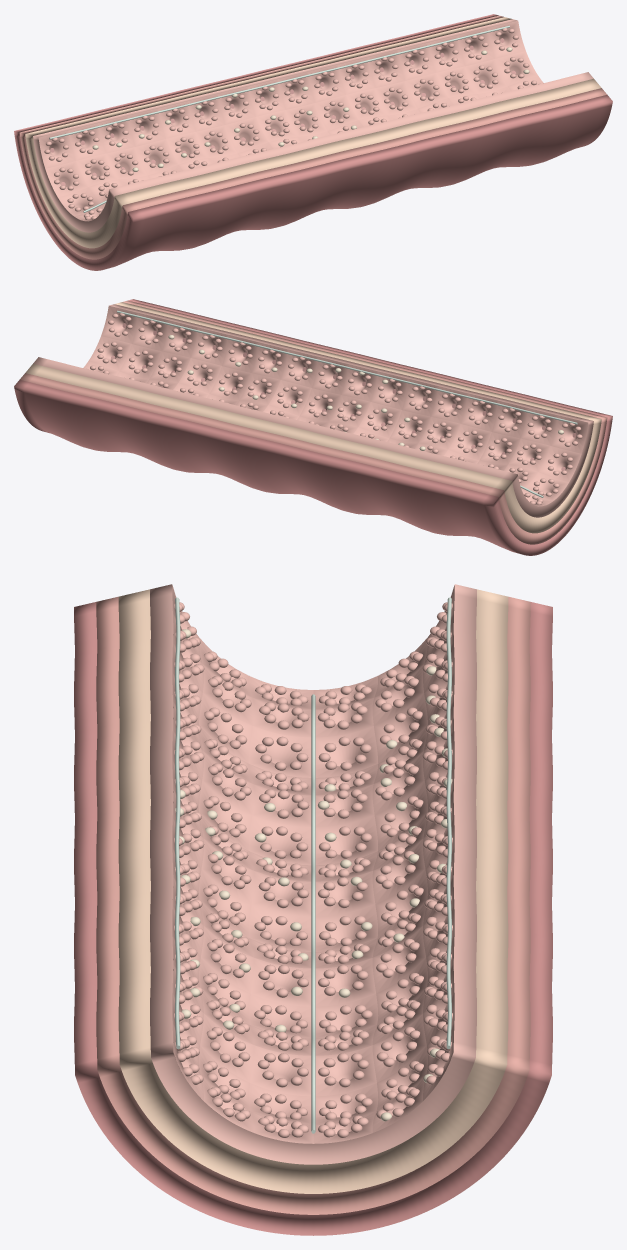
The model's file is colon-section.glb.
3 renders of one model, top to bottom at view 1: azimuth 30°, elevation 25°; view 2: azimuth 150°, elevation 25°; view 3: azimuth 270°, elevation 25°, orthographic. The views are drawn at different scales.
Parts seen in each view (by area): view 1: outer muscle, submucosa, circular muscle, mucosa, mucus film contour.002, crypt epithelial lining.004, crypt epithelial lining.022, crypt epithelial lining.005, crypt epithelial lining.040, crypt epithelial lining.041, crypt epithelial lining.023, crypt epithelial lining.095 (+26 smaller); view 2: outer muscle, submucosa, circular muscle, mucosa, mucus film contour, crypt epithelial lining.001, crypt epithelial lining.019, crypt epithelial lining, crypt epithelial lining.037, crypt epithelial lining.036, crypt epithelial lining.018, crypt epithelial lining.090 (+26 smaller); view 3: submucosa, outer muscle, circular muscle, mucosa, mucus film contour.001, mucus film contour, mucus film contour.002, crypt epithelial lining.014, crypt epithelial lining.015, crypt epithelial lining.080, crypt epithelial lining.081, crypt epithelial lining.032 (+35 smaller).
Part boxes in pixels (box(x1,y1,x2,y2)): outer muscle: box(14, 14, 612, 270); submucosa: box(25, 17, 601, 248); circular muscle: box(19, 15, 606, 259); mucosa: box(33, 19, 593, 232); mucus film contour.002: box(49, 25, 509, 139); crypt epithelial lining.004: box(45, 161, 88, 197); crypt epithelial lining.022: box(135, 139, 178, 175); crypt epithelial lining.005: box(38, 130, 75, 168); crypt epithelial lining.040: box(225, 117, 268, 153); crypt epithelial lining.041: box(218, 86, 255, 124); crypt epithelial lining.023: box(128, 108, 165, 146); crypt epithelial lining.095: box(488, 20, 525, 58); outer muscle: box(14, 299, 612, 555); submucosa: box(25, 302, 601, 533); circular muscle: box(20, 300, 607, 544); mucosa: box(33, 304, 593, 517); mucus film contour: box(117, 310, 577, 424); crypt epithelial lining.001: box(538, 446, 581, 482); crypt epithelial lining.019: box(448, 424, 491, 460); crypt epithelial lining: box(551, 415, 588, 453); crypt epithelial lining.037: box(358, 402, 401, 438); crypt epithelial lining.036: box(371, 371, 408, 409); crypt epithelial lining.018: box(461, 393, 498, 431); crypt epithelial lining.090: box(101, 305, 138, 343); submucosa: box(118, 589, 508, 1193); outer muscle: box(74, 602, 552, 1235); circular muscle: box(96, 596, 530, 1214); mucosa: box(150, 584, 476, 1164); mucus film contour.001: box(311, 694, 315, 1133); mucus film contour: box(175, 597, 180, 1049); mucus film contour.002: box(446, 597, 451, 1049); crypt epithelial lining.014: box(248, 726, 311, 777); crypt epithelial lining.015: box(315, 726, 378, 777); crypt epithelial lining.080: box(250, 1045, 311, 1096); crypt epithelial lining.081: box(315, 1045, 376, 1096); crypt epithelial lining.032: box(249, 815, 311, 865).
Bounding box in the file's own units: 4.8 × 0.9488 × 2.08.
